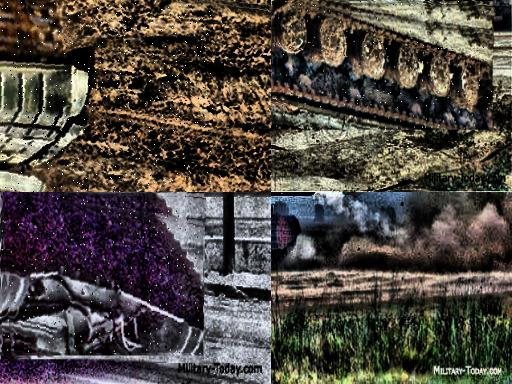tanks: (3, 198, 203, 355), (274, 1, 494, 131), (1, 1, 93, 193), (272, 208, 301, 267), (485, 1, 512, 27), (272, 193, 304, 197)
